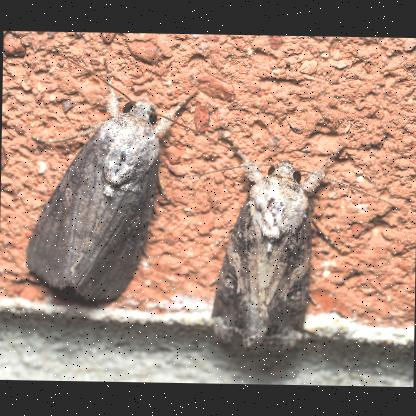Fall Armyworm Moth: (23, 48, 244, 307), (172, 134, 399, 359)
